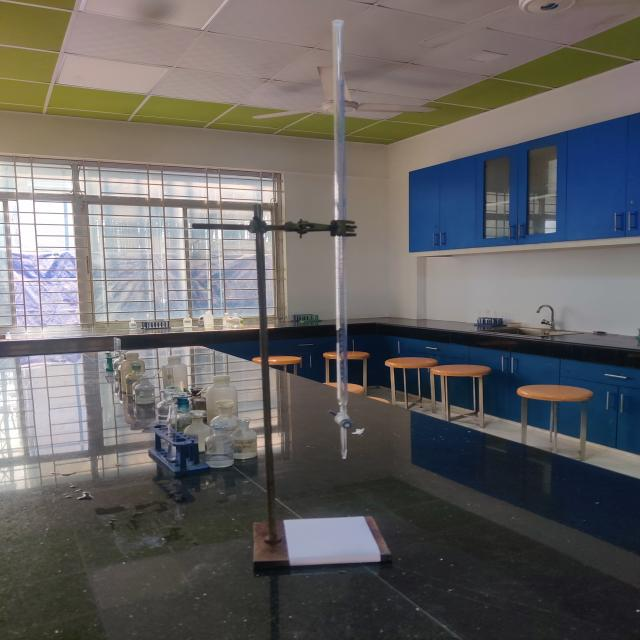Burette_Stands: (180, 16, 398, 594)
